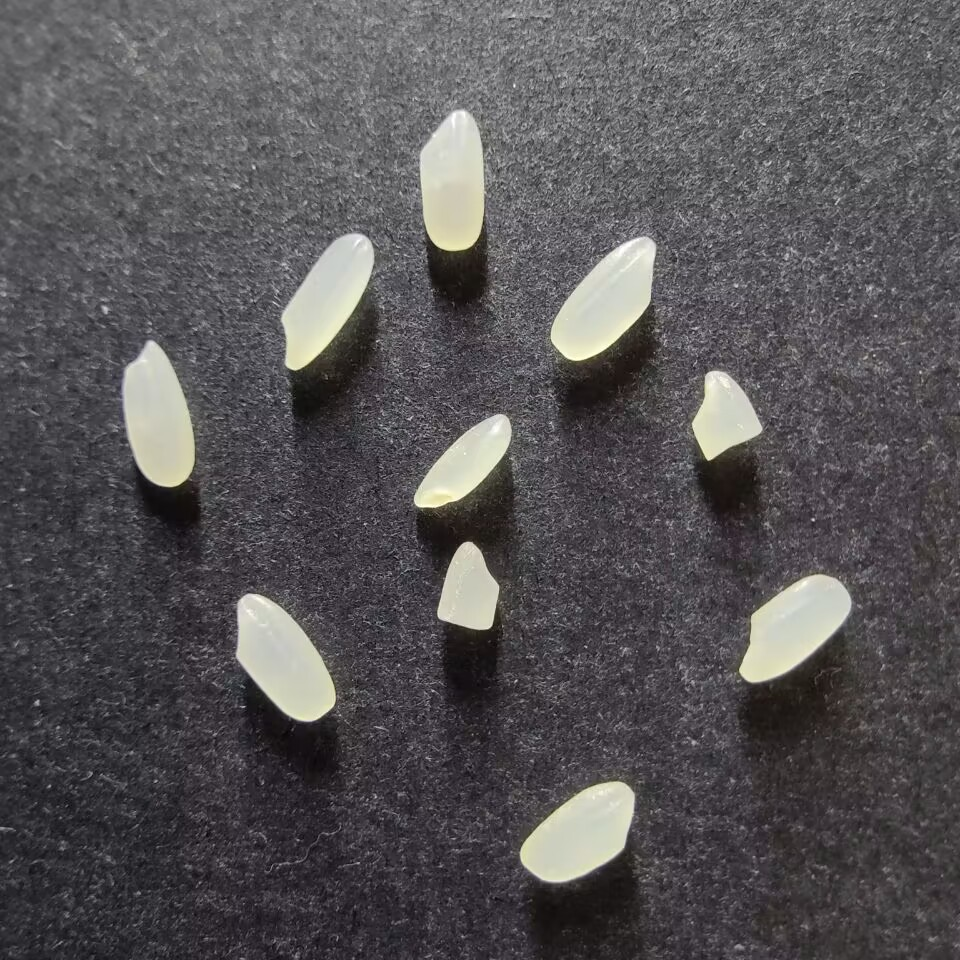broken: (688, 366, 764, 461), (433, 537, 504, 632)
rice: (277, 228, 376, 371), (548, 233, 657, 362), (232, 592, 337, 722), (738, 572, 855, 684), (516, 781, 638, 883), (122, 339, 196, 487), (410, 411, 513, 509), (416, 108, 486, 252)
